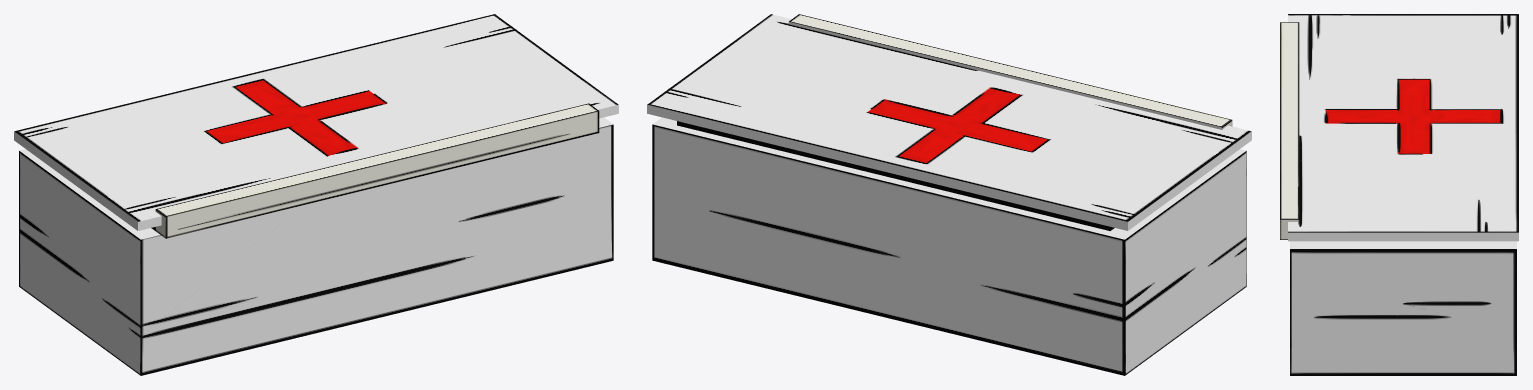
The model's file is medkit.fbx.
3 renders of one model, left to right at view 1: azimuth 30°, elevation 25°; view 2: azimuth 150°, elevation 25°; view 3: azimuth 270°, elevation 25°, orthographic. The views are drawn at different scales.
Parts seen in each view (by area): view 1: medkit1; view 2: medkit1; view 3: medkit1.
Part boxes in pixels (x1,y1,x2,y2): medkit1: (14, 14, 618, 375); medkit1: (647, 14, 1251, 375); medkit1: (1280, 14, 1518, 375).
Size of the model in its own units: 0.3869 by 0.1218 by 0.1785.
